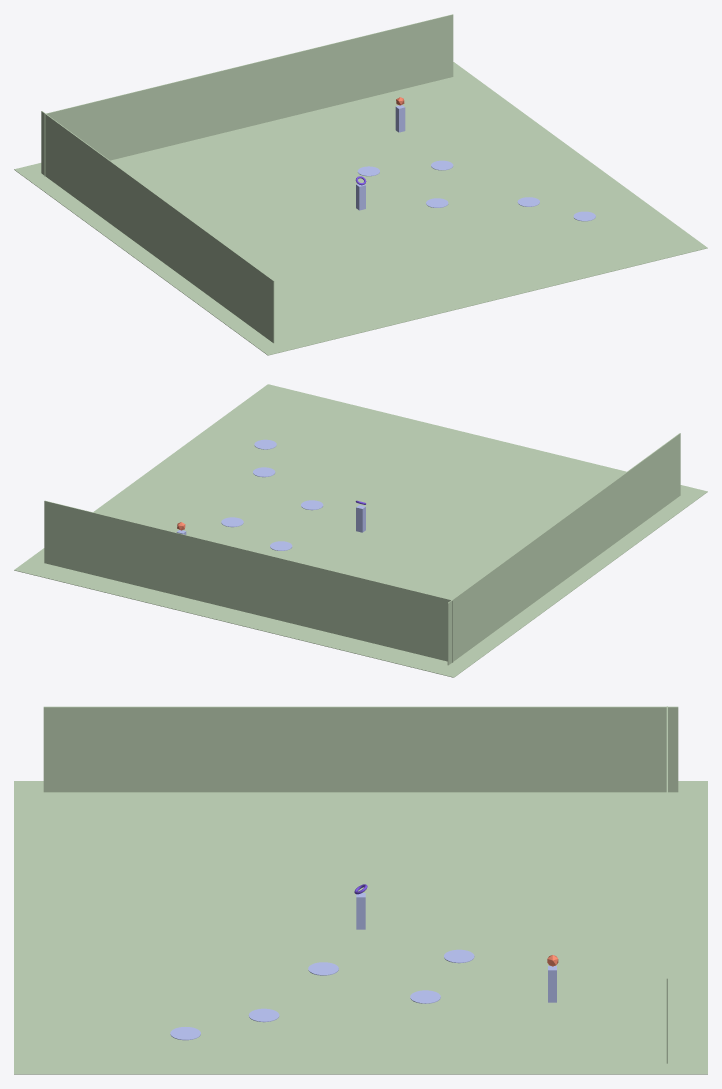
File: room12.glb
The picture shows the model from 3 angles, top to bottom: view 1: azimuth 30°, elevation 25°; view 2: azimuth 150°, elevation 25°; view 3: azimuth 270°, elevation 25°; orthographic projection. The views are drawn at different scales.
Visible parts, largest first — view 1: floor, wall, wall.001; view 2: floor, wall, wall.001; view 3: floor, wall.001, wall.
Part boxes in pixels (<box>): floor: <box>14,62,707,355</box>; wall: <box>44,14,453,176</box>; wall.001: <box>41,111,274,343</box>; floor: <box>14,384,707,677</box>; wall: <box>44,500,453,662</box>; wall.001: <box>447,433,680,665</box>; floor: <box>14,781,707,1074</box>; wall.001: <box>43,706,678,792</box>; wall: <box>666,706,667,1063</box>.
Size of the model in its own units: 25.54 by 3.5 by 25.54.
